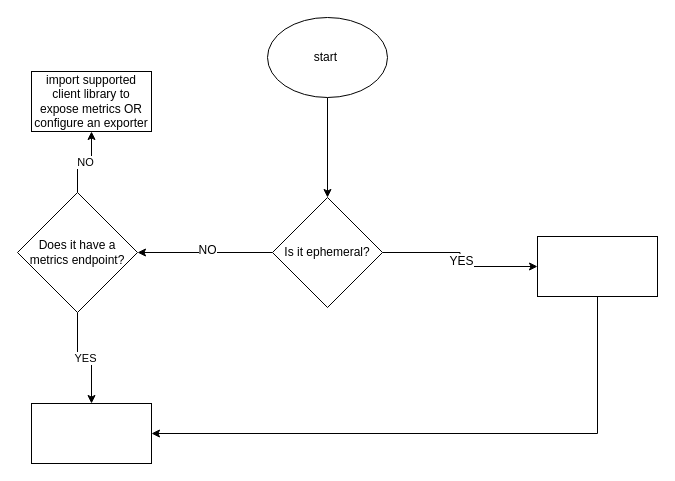
The diagram is 675 pixels wide and 481 high, and some of its shapes have lost their labels. The shapes that lost their labels are listed below. From the top down, each one's centre as x and y in pixels, then its label:
[597,266]: Configure a pushgateway
[91,433]: Add endpoint to prometheus scrape config
